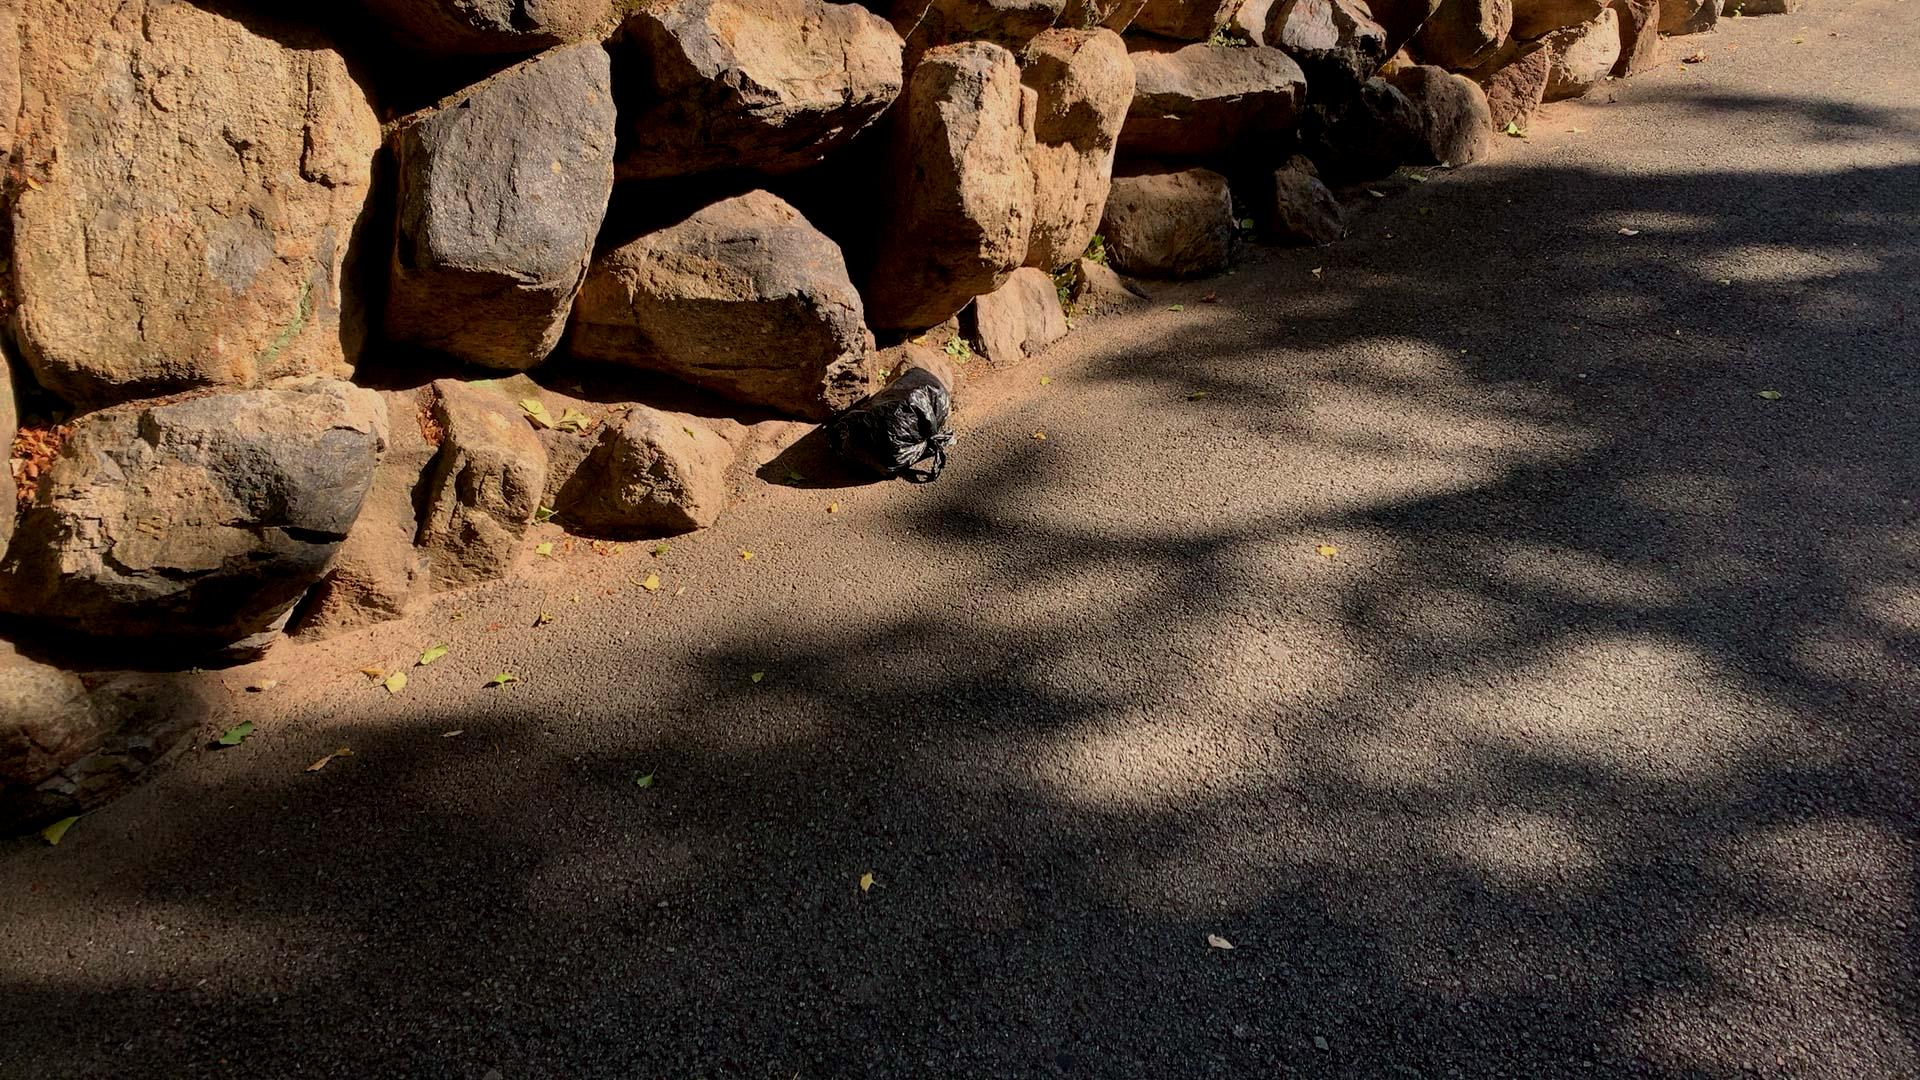black_bag: (815, 357, 967, 488)
